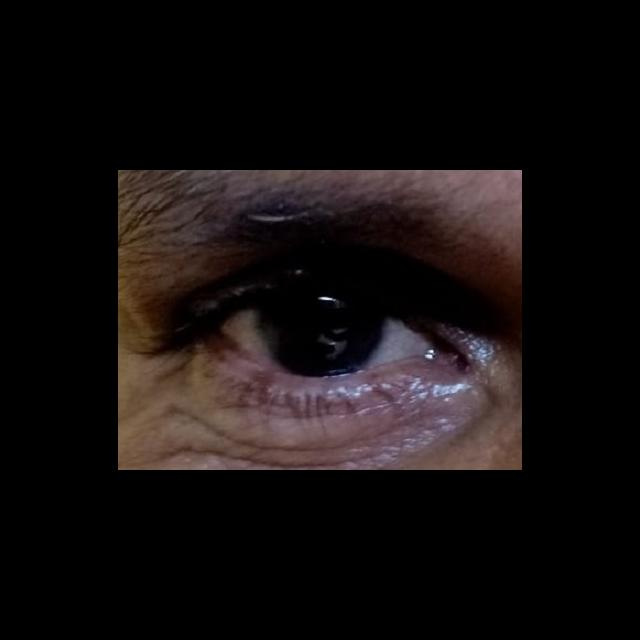eye: (221, 285, 429, 377)
iris: (258, 291, 384, 374)
